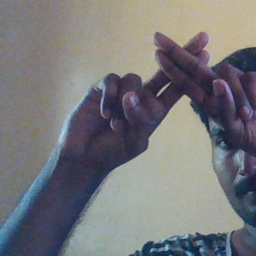F: (111, 24, 254, 133)
